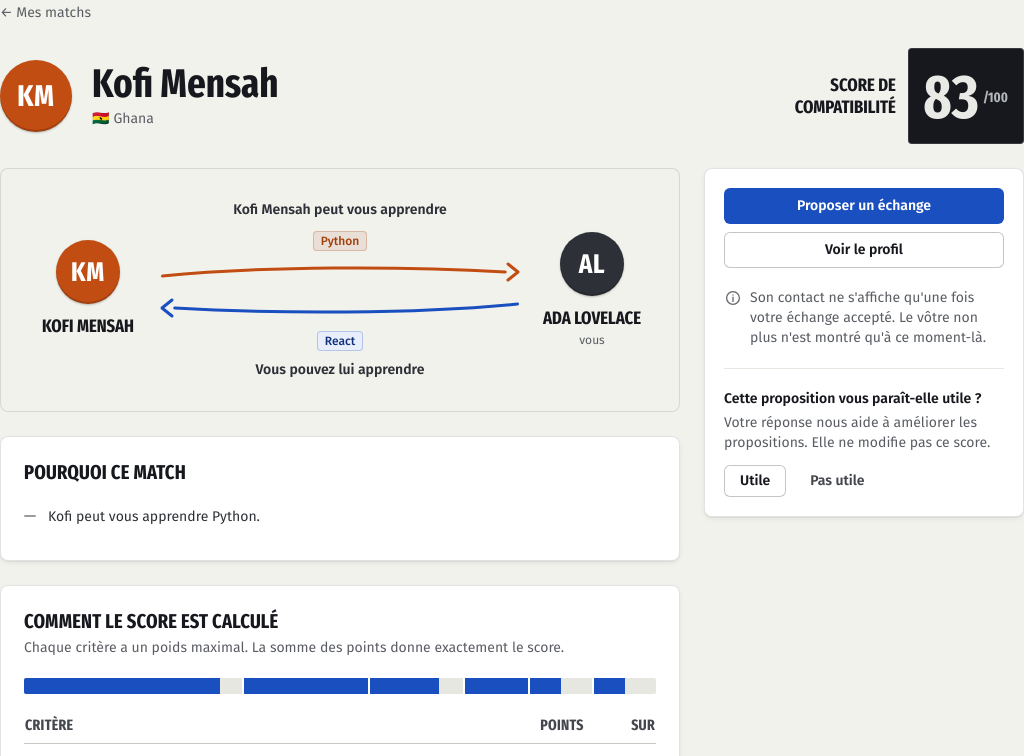
détail d un match › refuse d envoyer un message vide
Click the button "Proposer un échange" at (864, 206), box [724,188,1004,224]
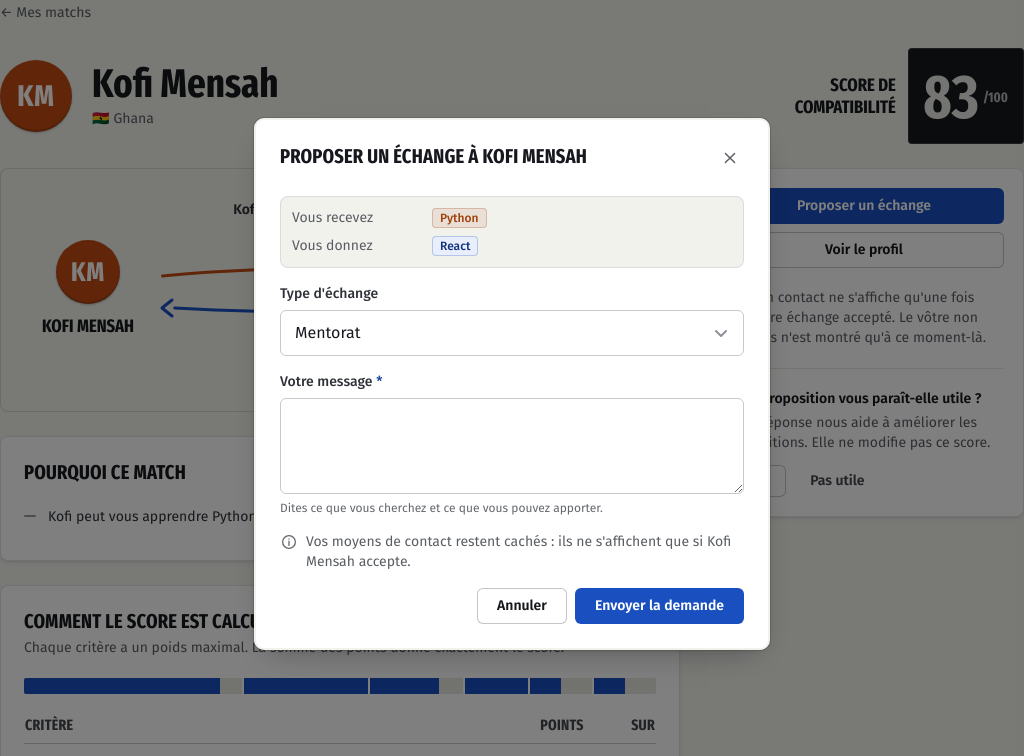
Click the button "Envoyer la demande" at (659, 606), box [575,588,744,624]
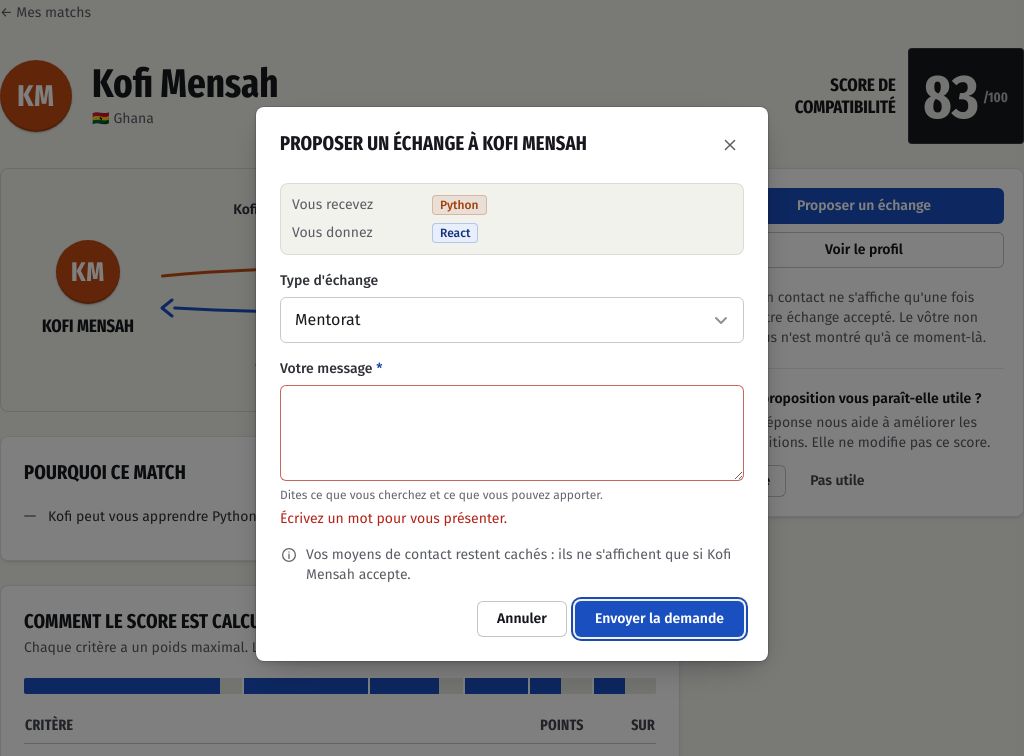
expect the text "Écrivez un mot pour vous présenter." is shown: met, box [280,510,507,527]
